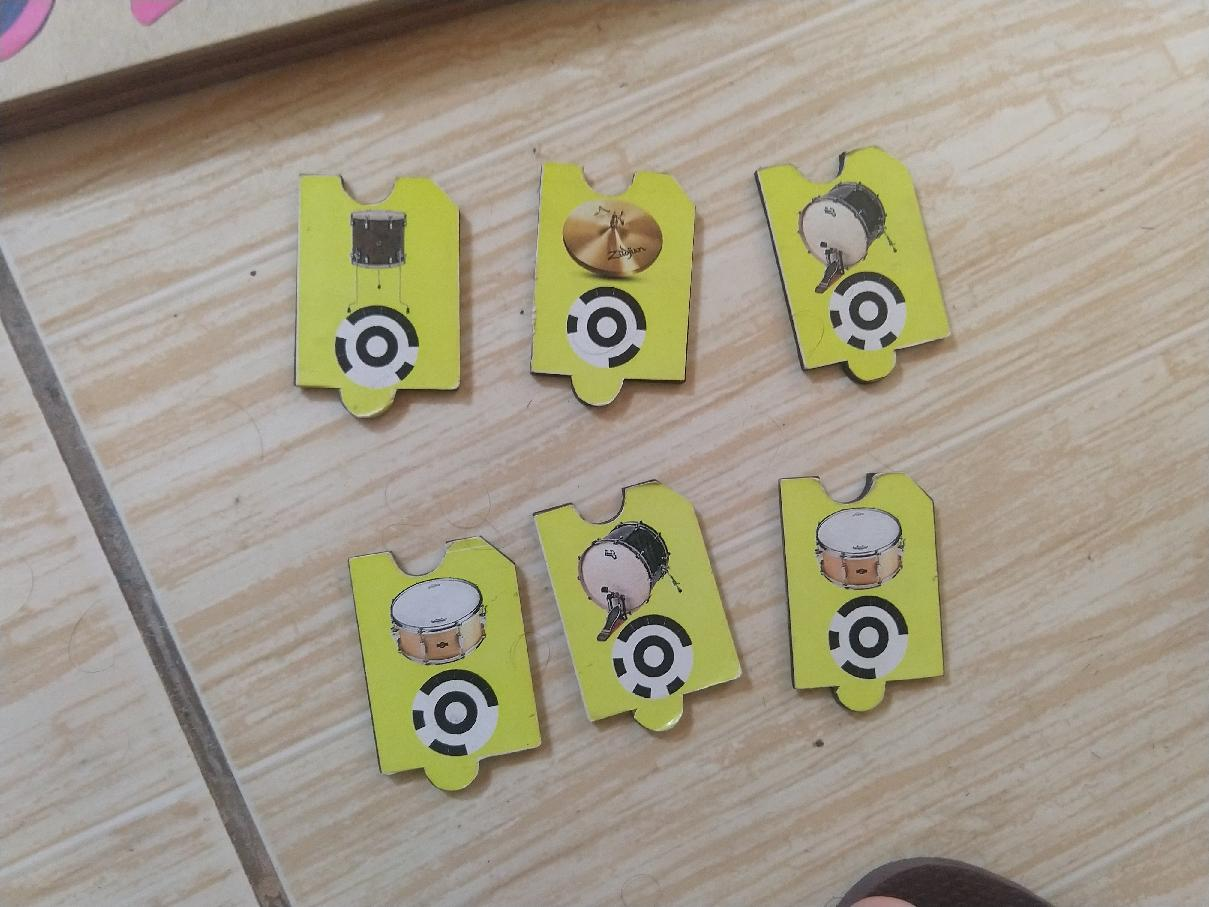bumbo: (530, 477, 750, 742), (753, 139, 955, 386)
